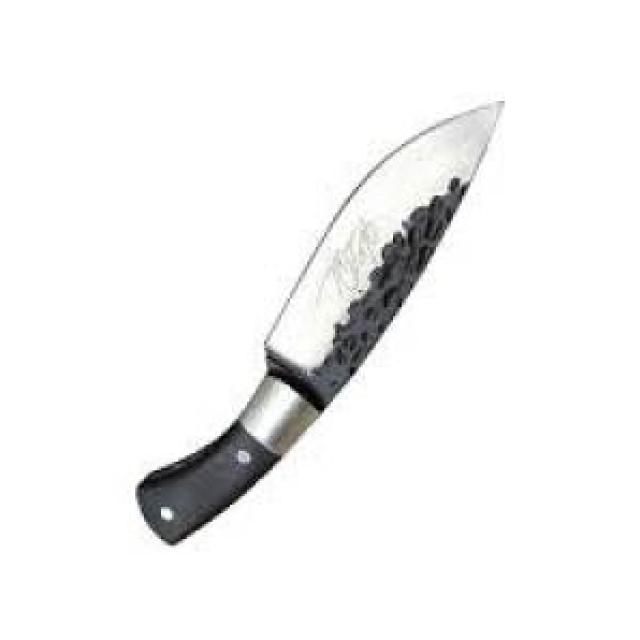knife: (133, 99, 505, 550)
